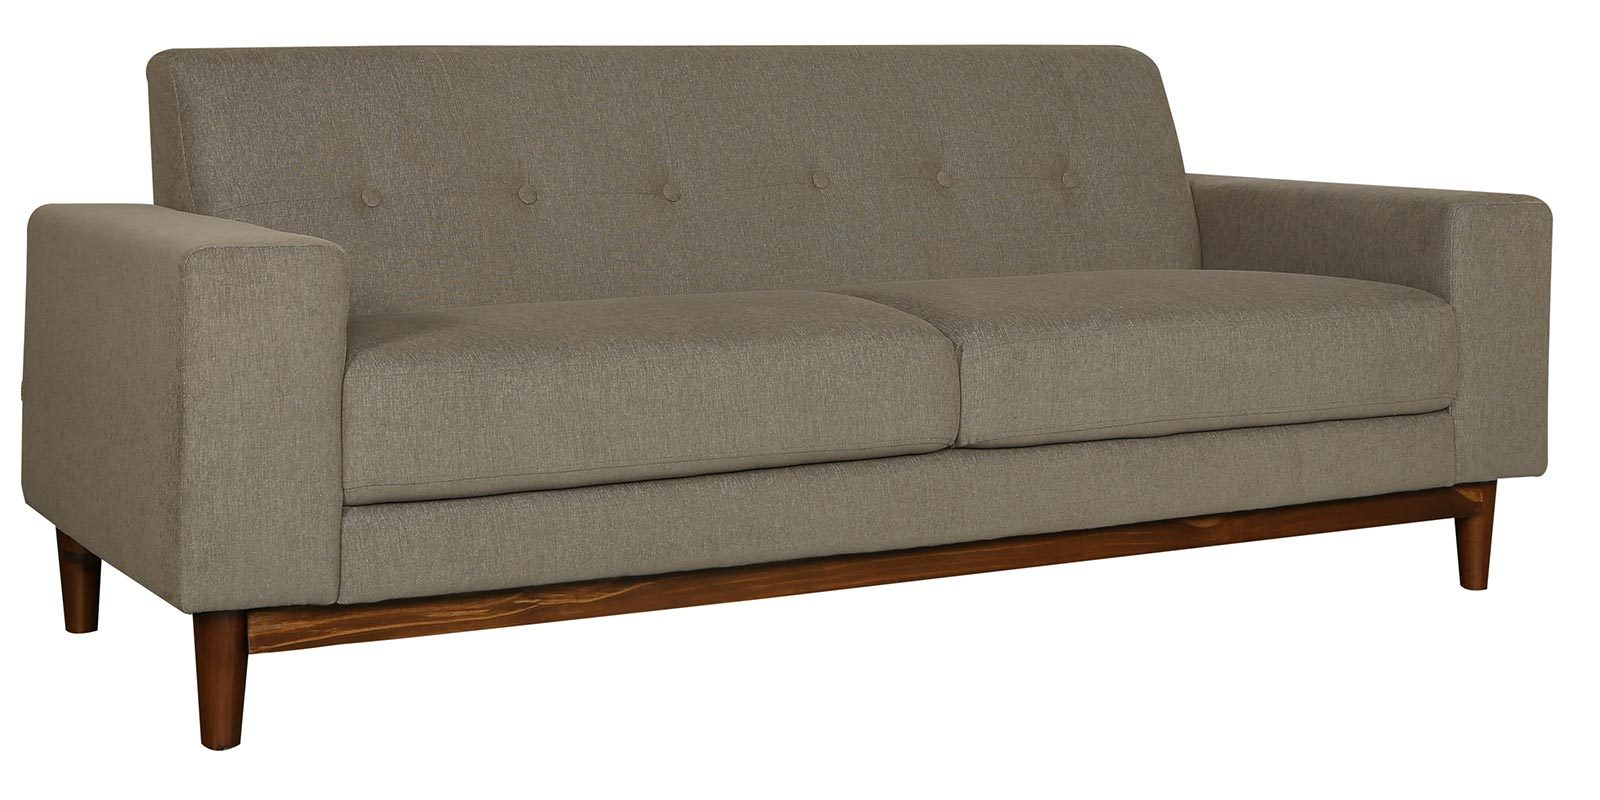Cordoba Three Seater Sofa in Sandy Brown Colour by CasaCraft: (9, 35, 1590, 706)
